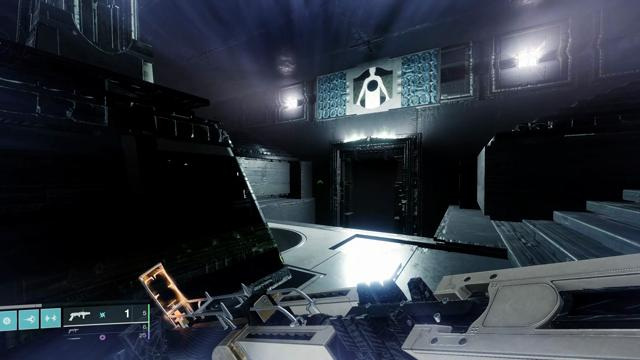grief: (353, 67, 392, 108)
